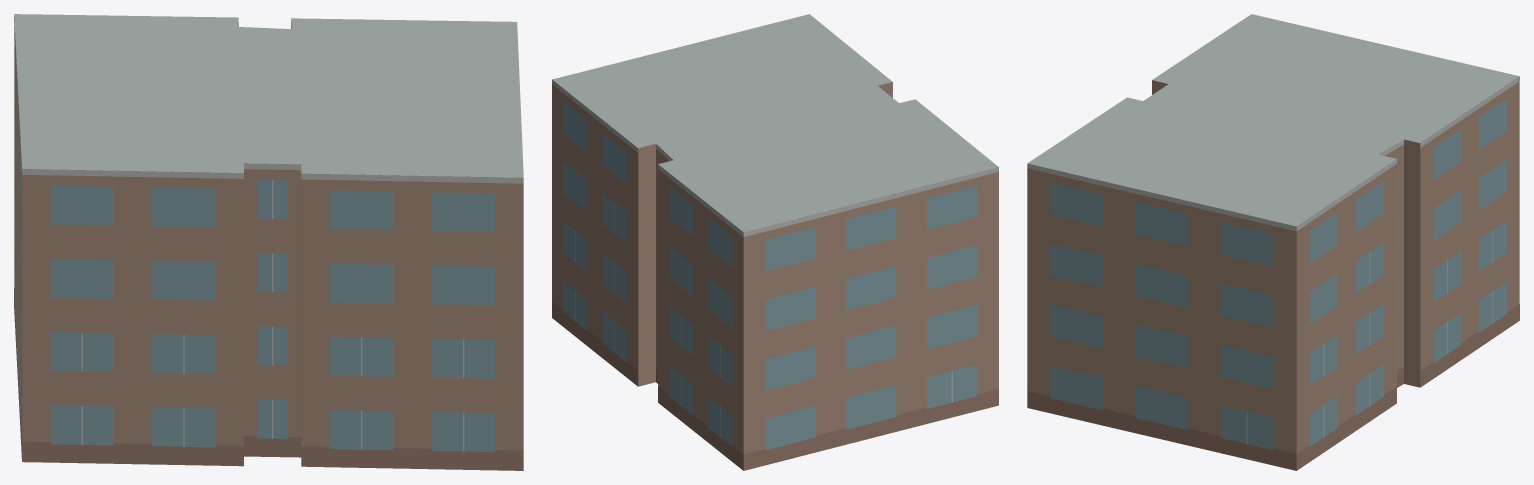
The model's file is survey-upis-32645015.glb.
3 renders of one model, left to right at view 1: azimuth 30°, elevation 25°; view 2: azimuth 150°, elevation 25°; view 3: azimuth 270°, elevation 25°, orthographic. The views are drawn at different scales.
Parts seen in each view (by area): view 1: survey-upis-32645015.tmp; view 2: survey-upis-32645015.tmp; view 3: survey-upis-32645015.tmp.
Boxes of the visible parts, bbox=[...] form: survey-upis-32645015.tmp: bbox=[14, 14, 523, 470]; survey-upis-32645015.tmp: bbox=[552, 14, 998, 470]; survey-upis-32645015.tmp: bbox=[1027, 14, 1519, 470].
Bounding box in the file's own units: 22.75 × 12.2 × 22.29.
